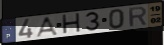0: (109, 8, 126, 30)
3: (85, 11, 102, 33)
4: (17, 18, 35, 40)
A: (35, 16, 60, 38)
H: (61, 12, 82, 36)
R: (128, 6, 148, 28)
